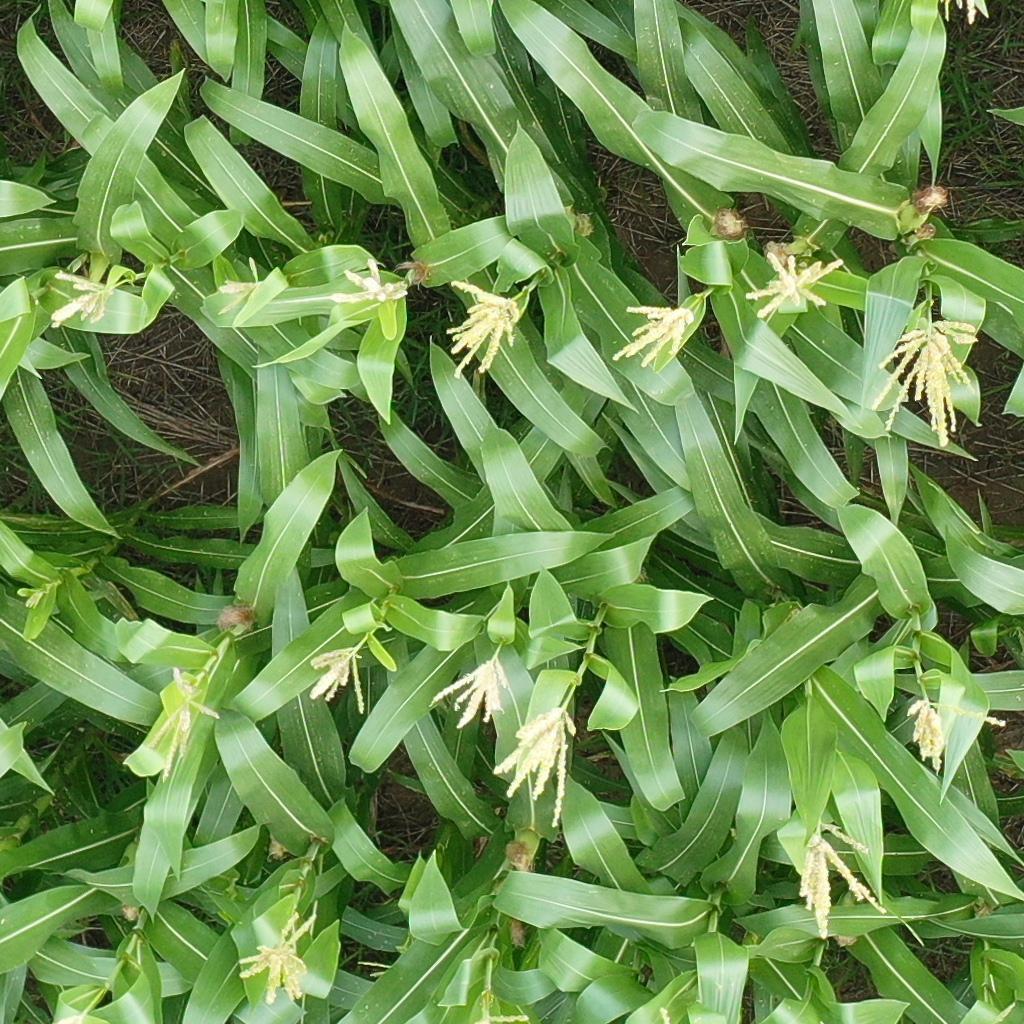Tassel: (873, 315, 977, 450), (489, 704, 578, 833), (798, 819, 892, 940), (143, 665, 219, 786), (901, 696, 1007, 776), (446, 277, 522, 381), (238, 909, 318, 1004), (743, 252, 844, 321), (426, 654, 511, 729), (611, 303, 697, 369), (303, 646, 372, 716), (46, 268, 113, 330), (328, 258, 406, 309), (213, 256, 263, 317), (939, 1, 979, 27), (23, 588, 47, 610)
